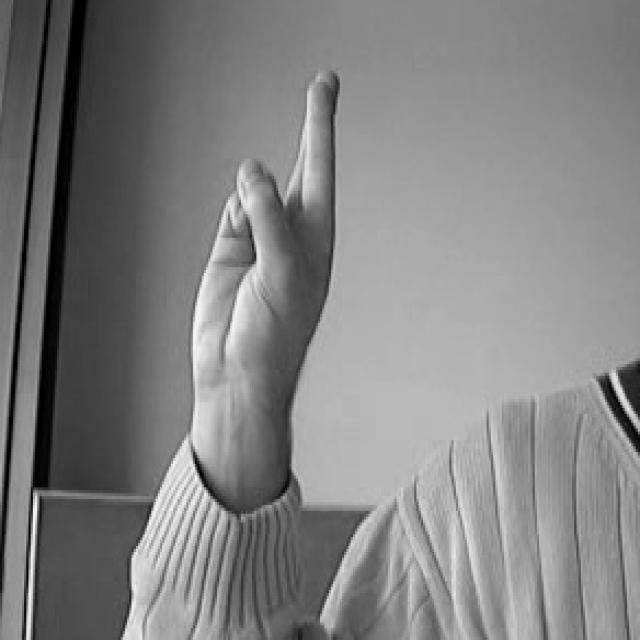R: (181, 44, 345, 415)
